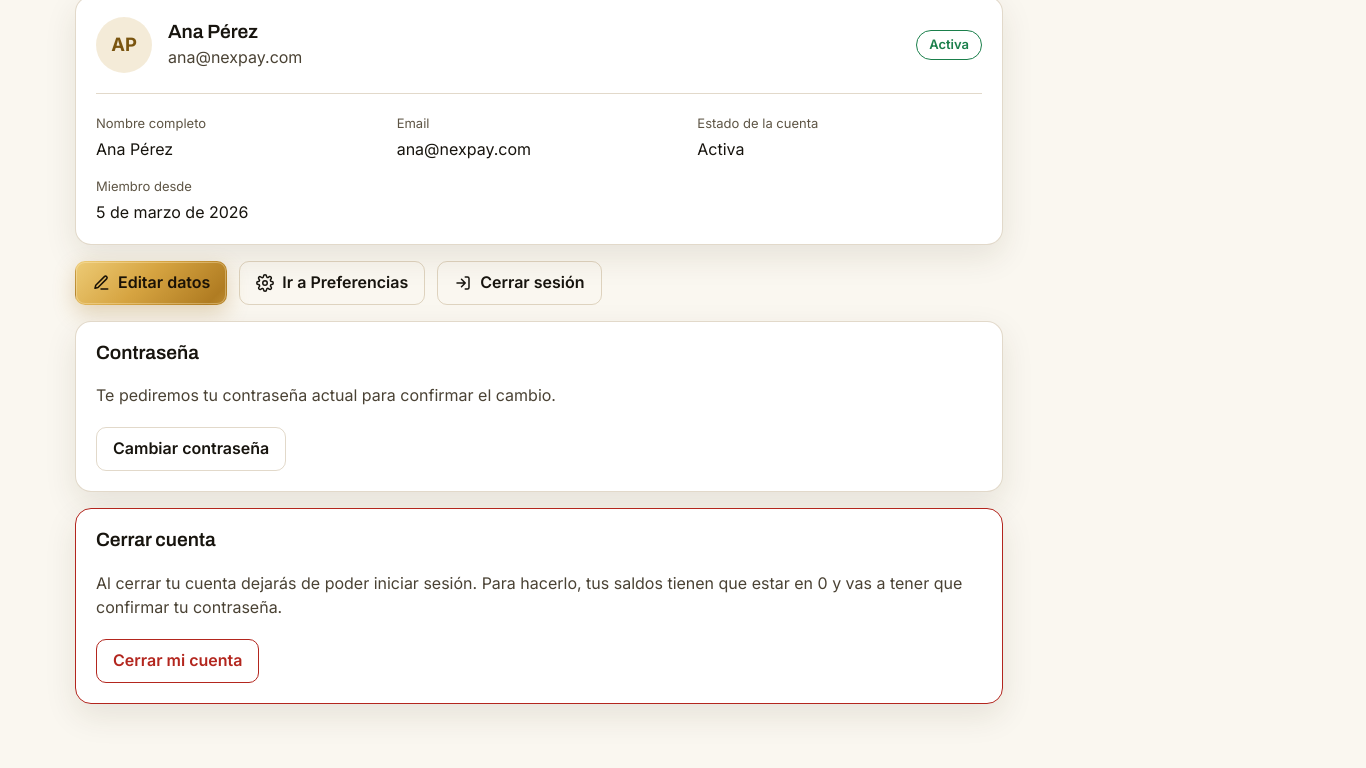
Usuario: cerrar cuenta › pide la contraseña antes de cerrar
(page scrolled)
Click the button "Cerrar mi cuenta" at (178, 660), box x1=96 y1=638 x2=260 y2=682
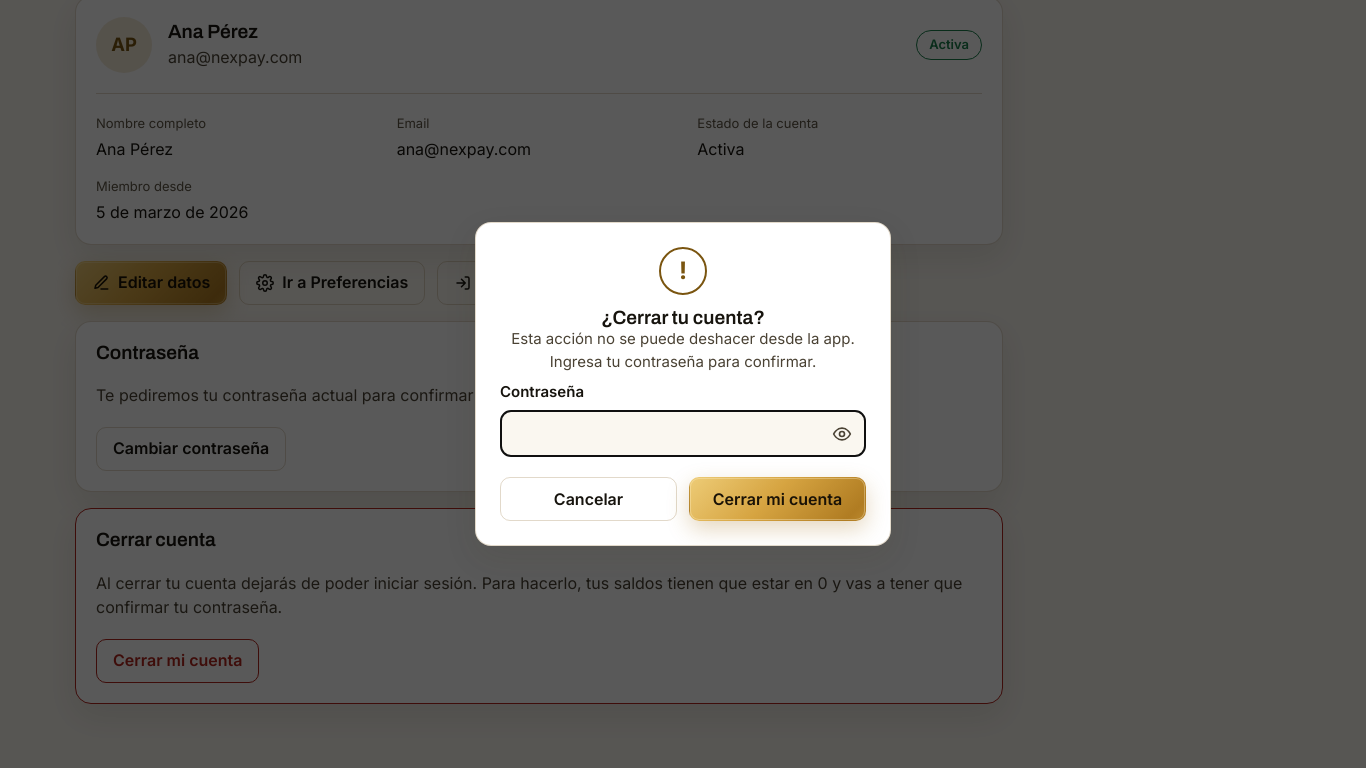
Click the button "Cerrar mi cuenta" at (778, 499), box x1=689 y1=477 x2=866 y2=521
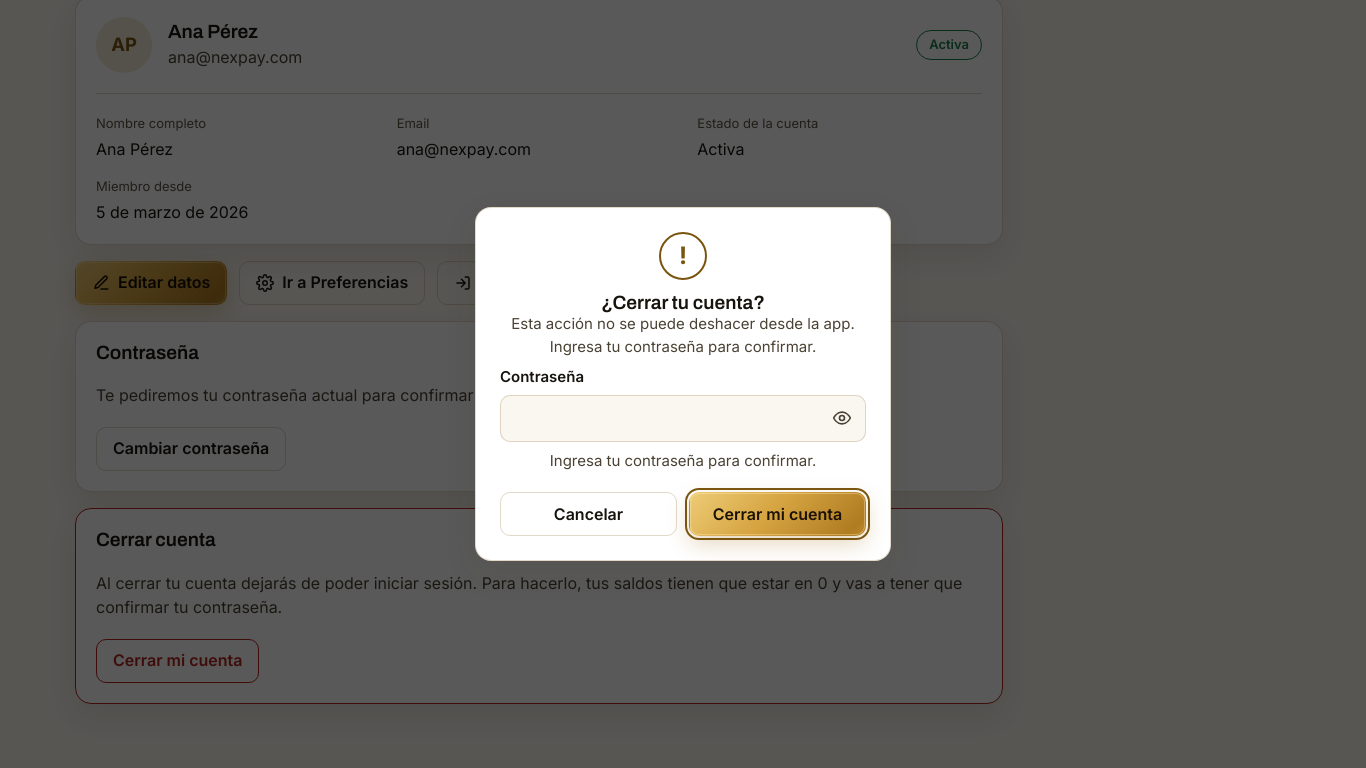
Check: the message shows "Ingresa tu contraseña", box x1=550 y1=451 x2=816 y2=470
